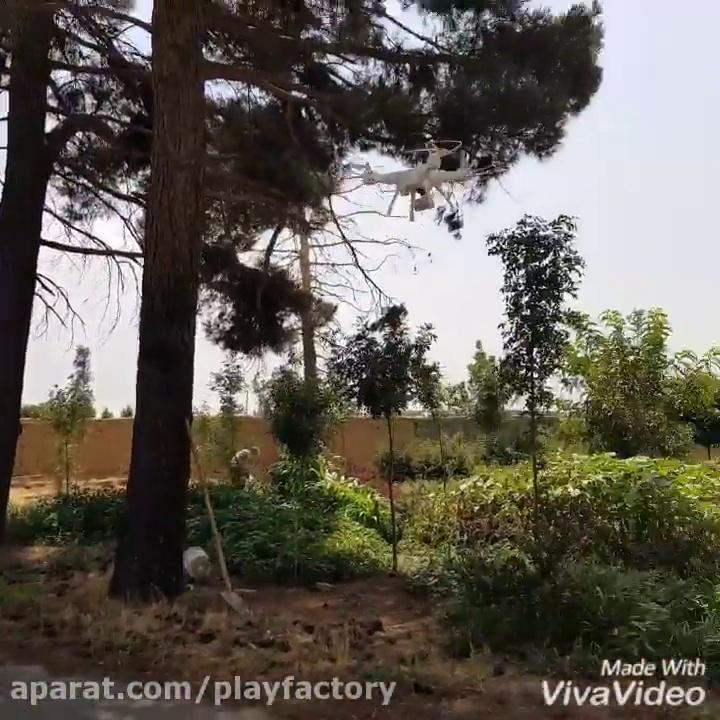drone: (333, 139, 502, 223)
